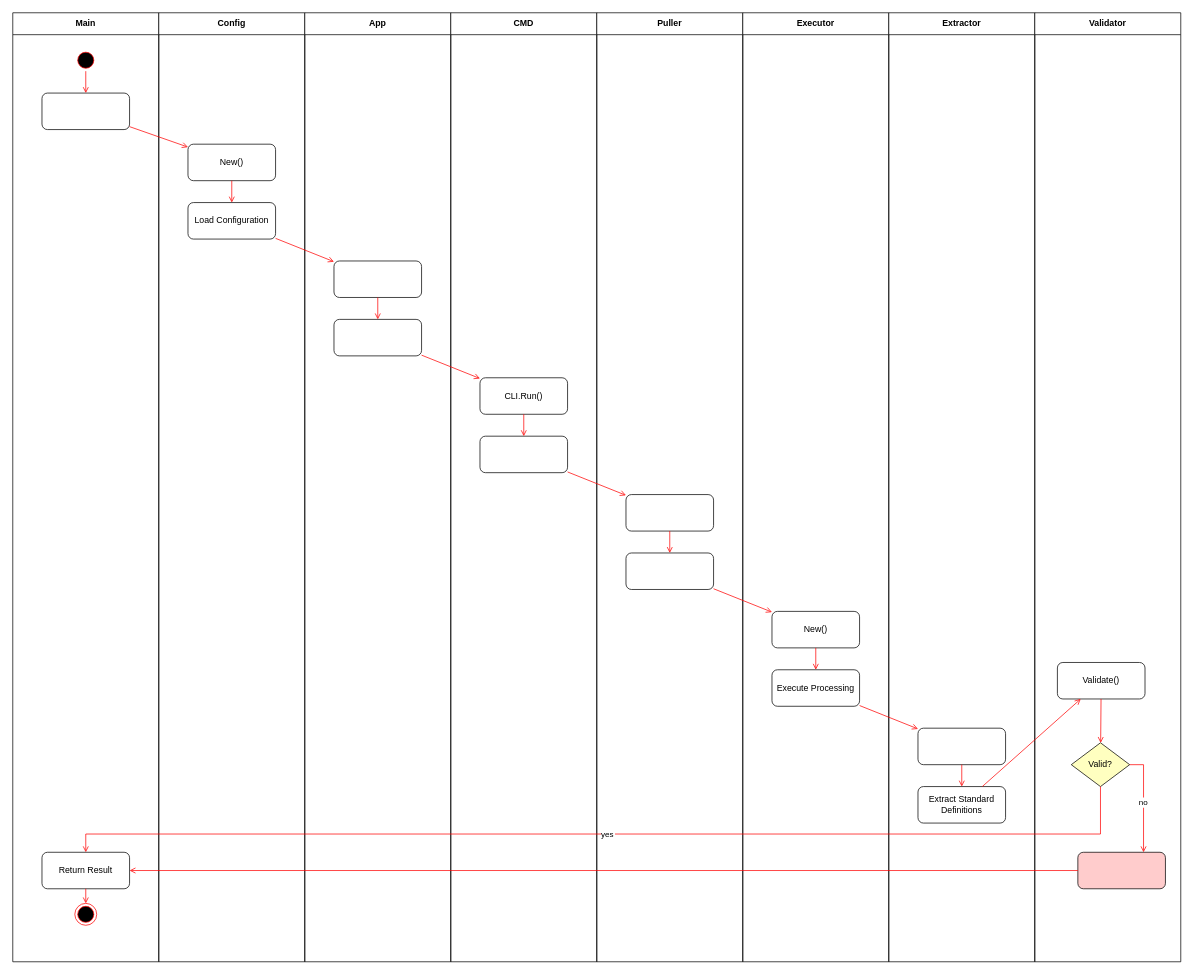
Image size: 1194x975. Some labels were removed from this diagram. The shapes that lost their labels are listed below. From the top down, each one's centre as x and y in pixels, then its label:
the point at 85,111: main()
the point at 377,278: Run(params)
the point at 377,337: Coordinate Processing
the point at 523,454: Parse Arguments
the point at 669,512: Pull(params)
the point at 669,570: Fetch GraphQL Specifications
the point at 961,746: New(params)
the point at 1121,870: Return Error
